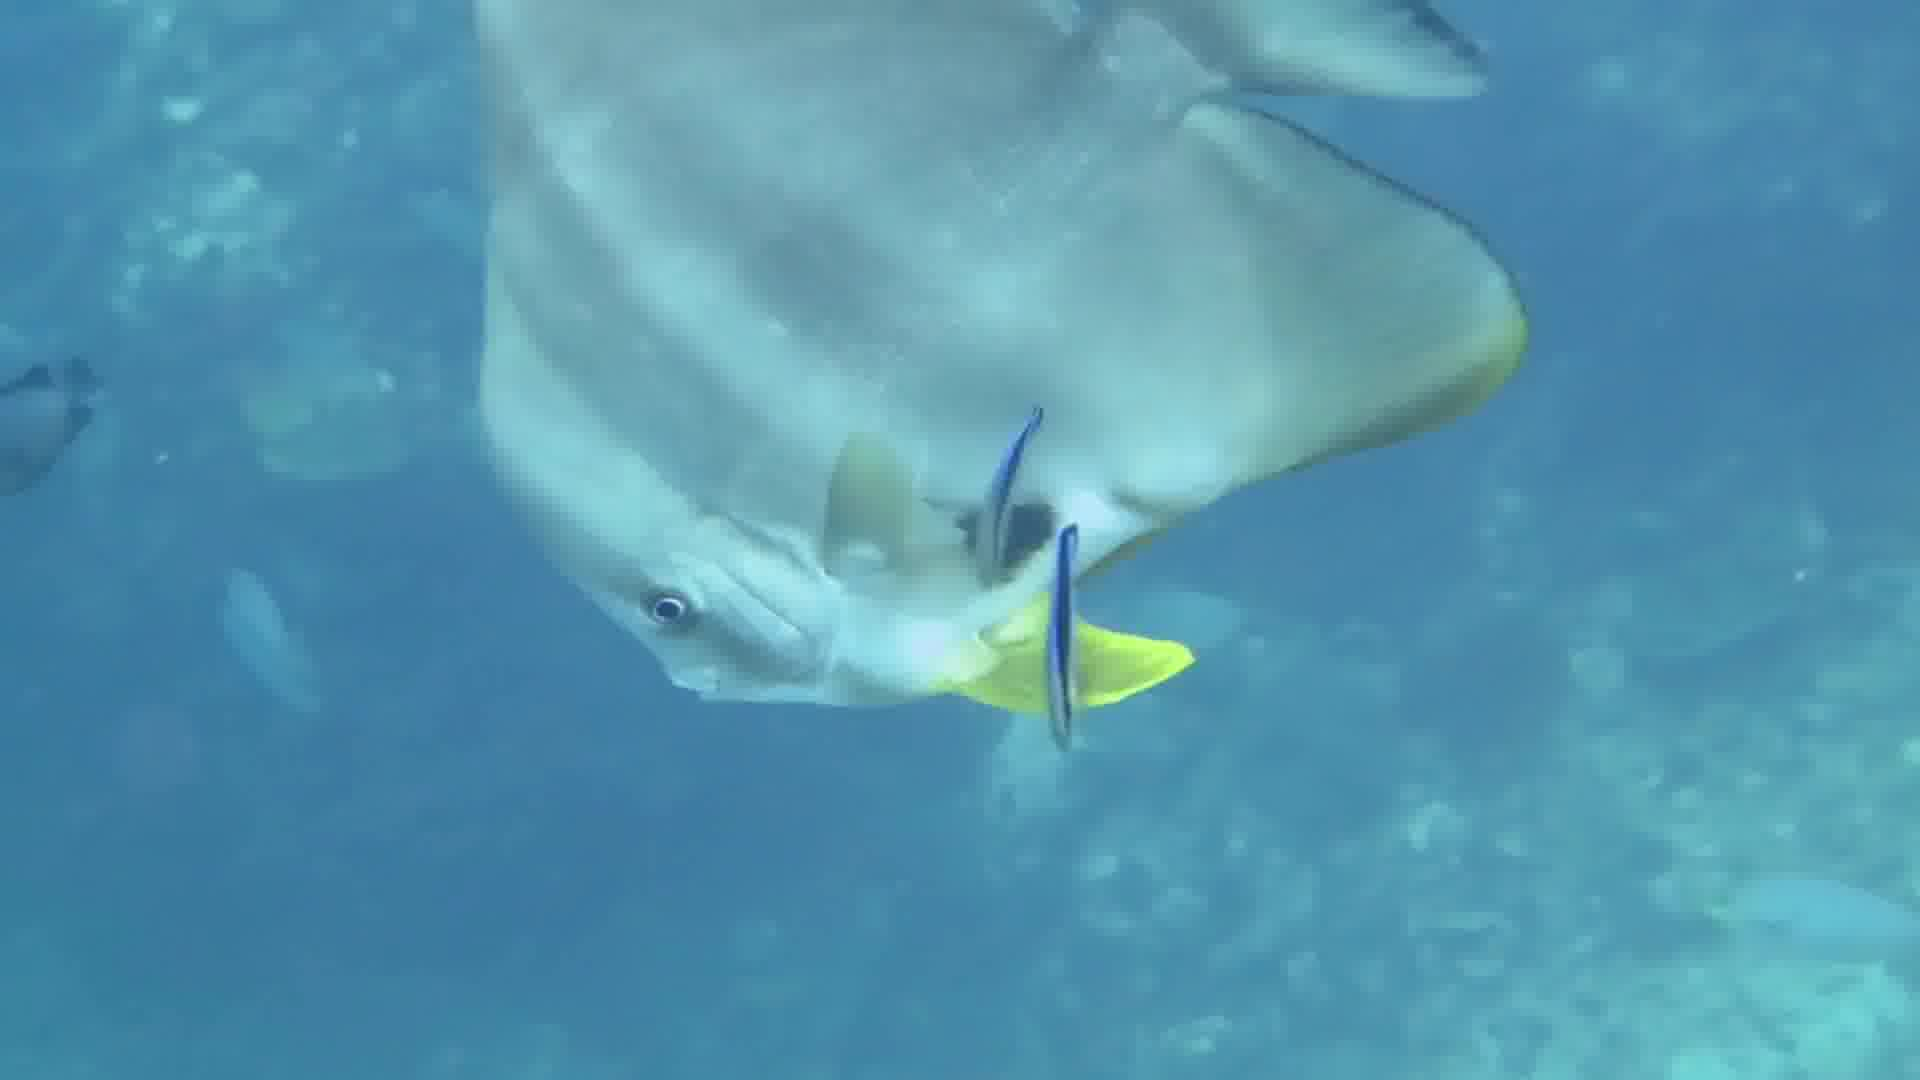Platax teira: (476, 1, 1494, 840)
